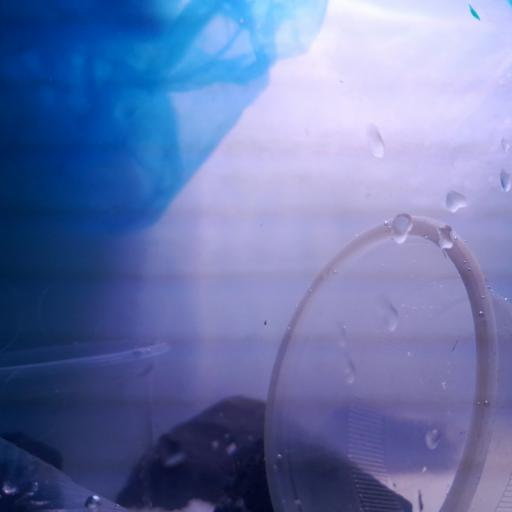plastic_bag: (2, 0, 332, 249)
plastic_cup: (262, 211, 512, 512), (0, 334, 168, 512), (0, 436, 134, 512)
